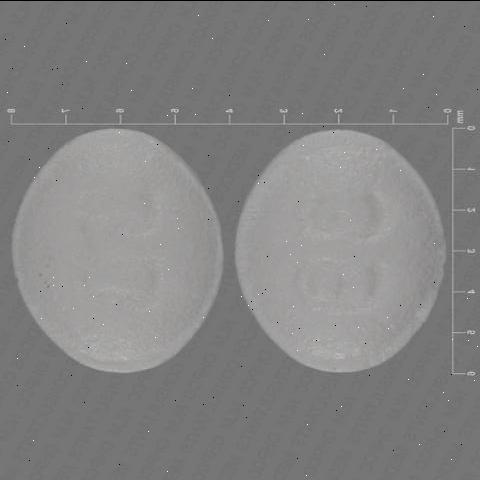Pill: (11, 116, 227, 418), (234, 124, 450, 410)
